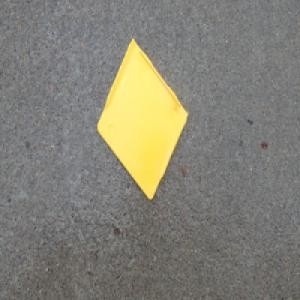PlasticPart: (97, 37, 189, 201)
